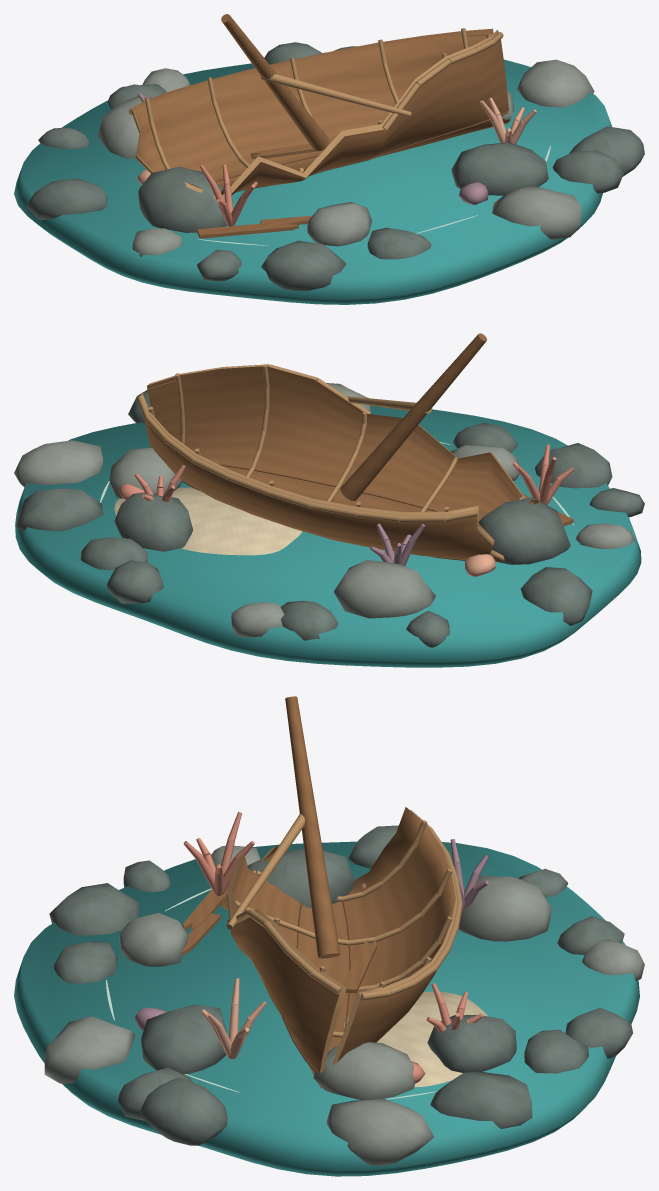
Rendered from shipwreck-reef-v4-lod.glb.
3 views of the same model, one above another, from view 1: azimuth 30°, elevation 25°; view 2: azimuth 150°, elevation 25°; view 3: azimuth 270°, elevation 25° (orthographic). The views are drawn at different scales.
Visible parts, largest first — view 1: Shipwreck | collectible LOD; view 2: Shipwreck | collectible LOD; view 3: Shipwreck | collectible LOD.
Boxes of the visible parts, left/top/right/bottom form: Shipwreck | collectible LOD: left=14, top=14, right=644, bottom=304; Shipwreck | collectible LOD: left=14, top=333, right=644, bottom=667; Shipwreck | collectible LOD: left=14, top=696, right=644, bottom=1176.
Size of the model in its own units: 1.72 by 0.6688 by 1.45.
11 materials, 4 textured.
